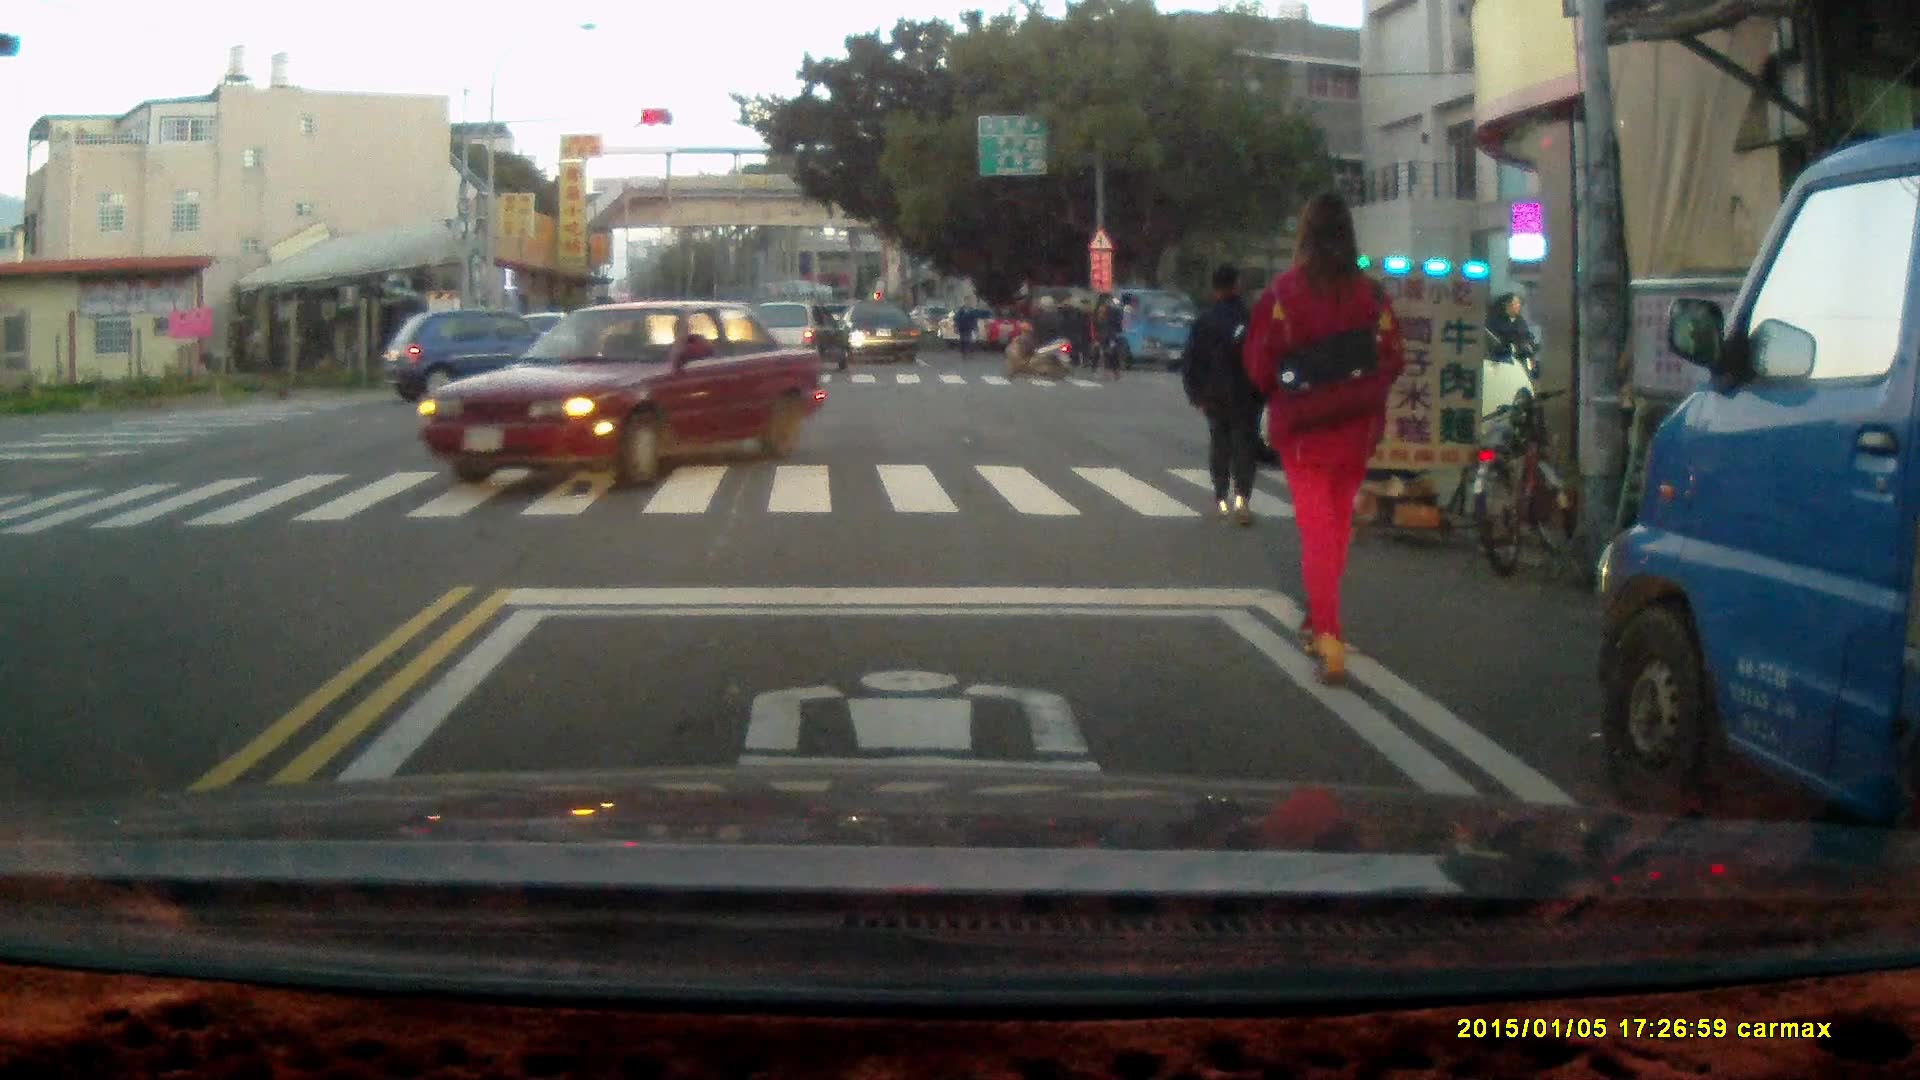pedestrian: (1248, 190, 1404, 681), (1176, 256, 1282, 526), (1487, 292, 1537, 416), (1049, 290, 1081, 375), (1087, 295, 1113, 369), (953, 292, 976, 363)
rider: (1005, 293, 1067, 381)
vehicle: (1598, 132, 1920, 866), (416, 303, 838, 487), (1233, 296, 1533, 459), (1002, 284, 1203, 367), (830, 294, 926, 366)
